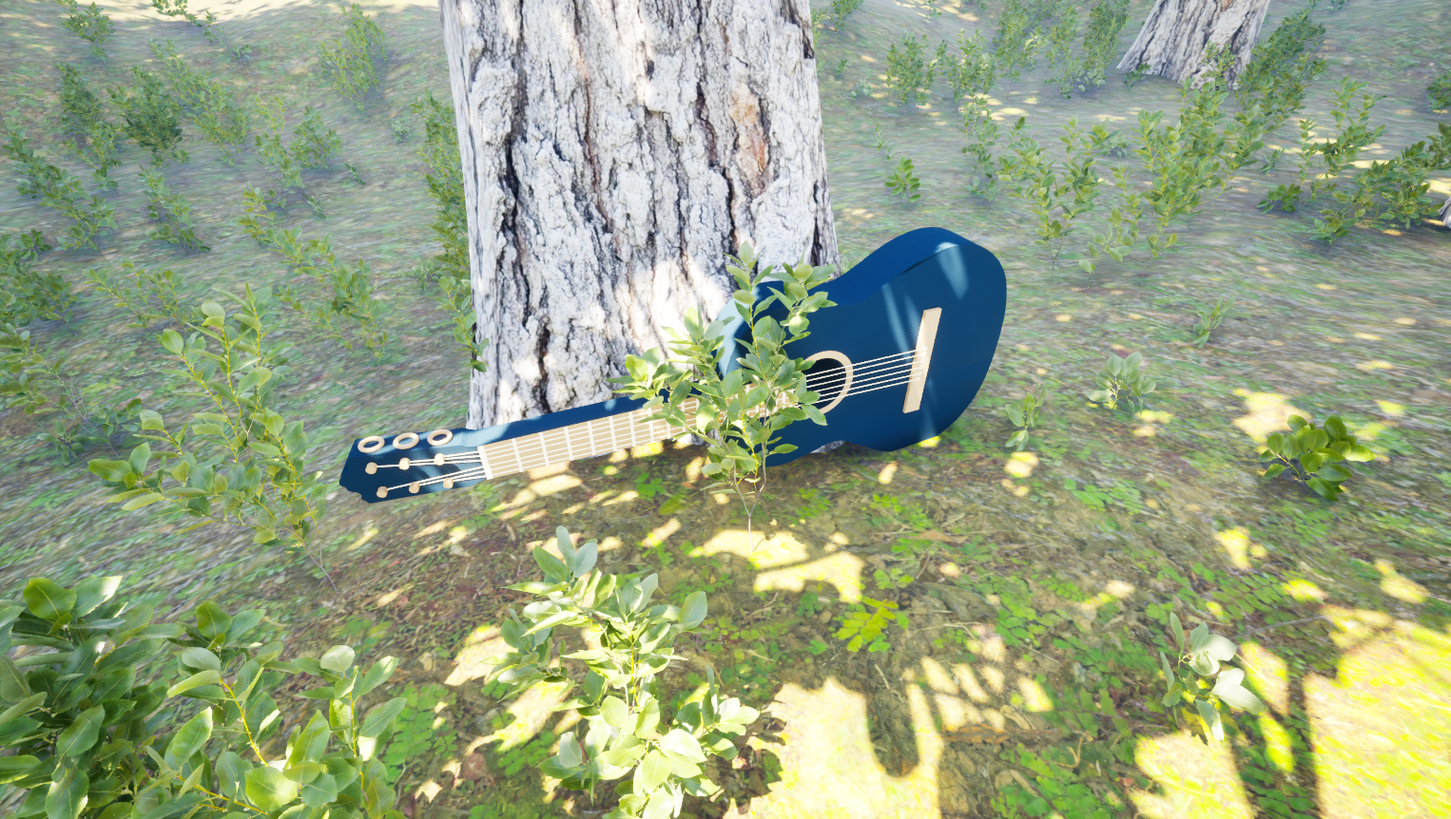Guitar: (230, 194, 1189, 687)
